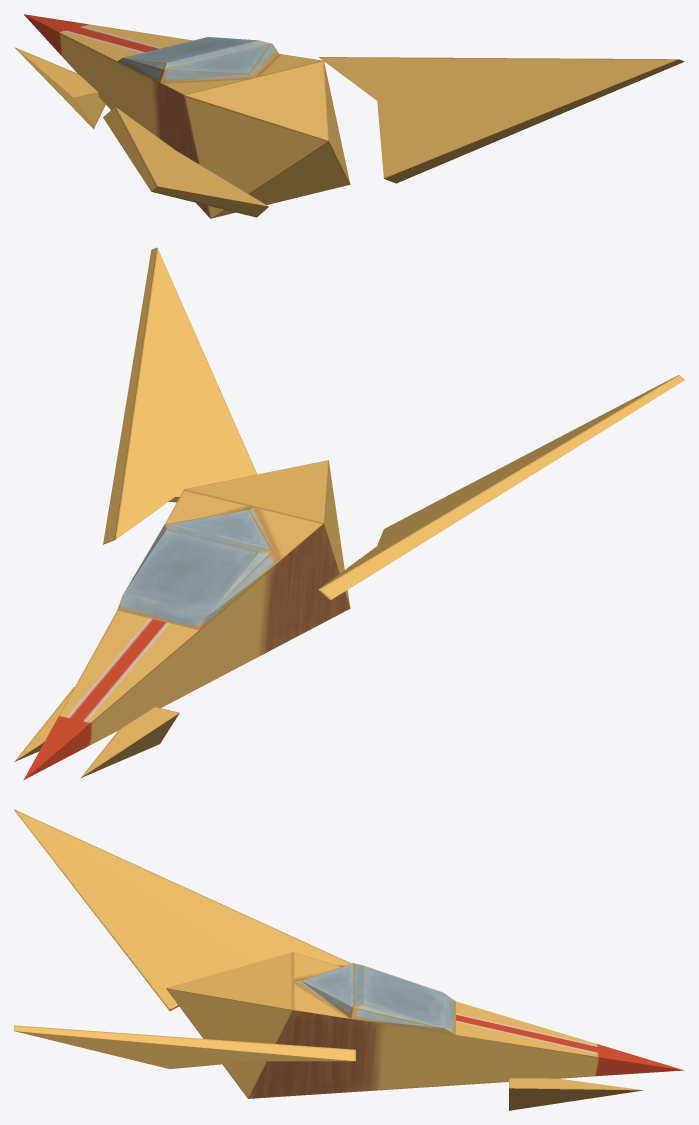
The model's file is Ship_Test.fbx.
The picture shows the model from 3 angles, top to bottom: view 1: azimuth 30°, elevation 25°; view 2: azimuth 150°, elevation 25°; view 3: azimuth 270°, elevation 25°; orthographic projection. The views are drawn at different scales.
Visible parts, largest first — view 1: Ship_Body; view 2: Ship_Body; view 3: Ship_Body.
Part boxes in pixels (left/top/right/bottom): Ship_Body: left=15, top=14, right=684, bottom=218; Ship_Body: left=14, top=247, right=684, bottom=780; Ship_Body: left=14, top=809, right=684, bottom=1110.
Size of the model in its own units: 390 by 148 by 500.
Materials: 1 (1 with a texture image).
